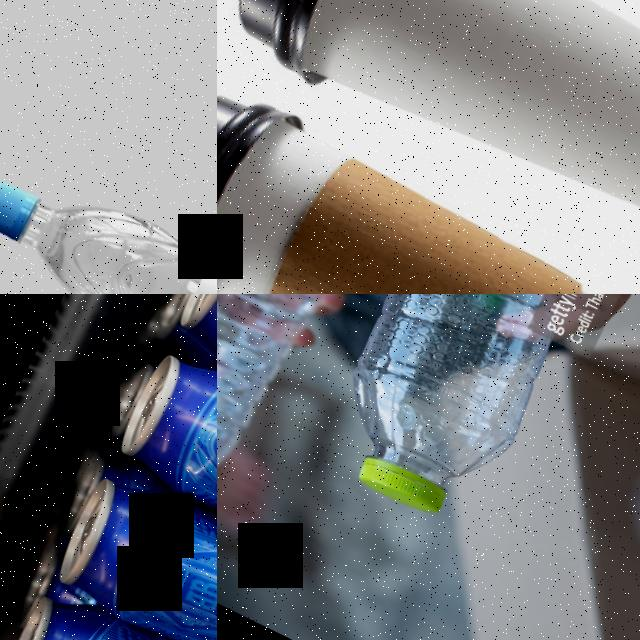bottle: (290, 294, 640, 538), (217, 294, 437, 571), (0, 147, 217, 294)
can: (43, 449, 217, 640), (108, 340, 217, 640), (0, 546, 217, 640), (163, 294, 217, 583)
cup: (217, 0, 640, 280), (217, 63, 640, 294)
